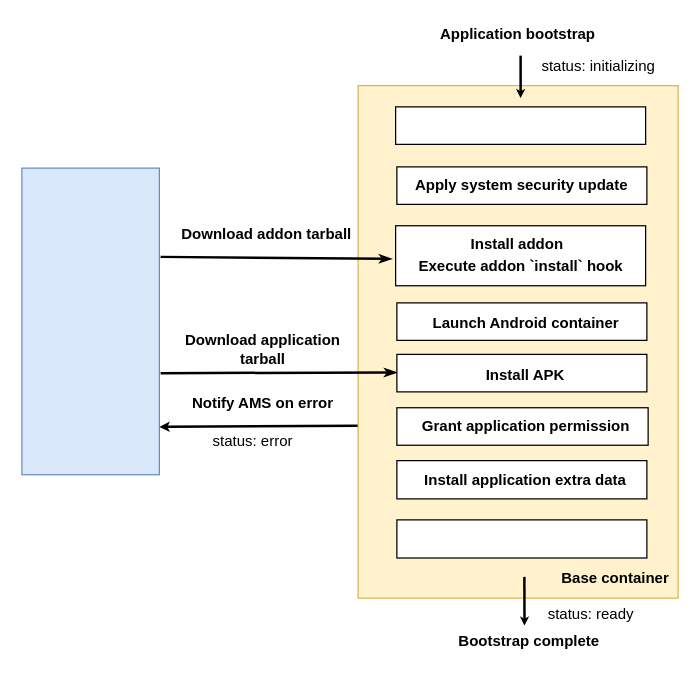
This 700x676 diagram has some shape labels left out. The shapes that lost their labels are listed below. From the top down, each one's centre as x and y in pixels, then its label:
pixel 520 125: Configure Network
pixel 90 321: AMS
pixel 521 538: Execute addon `prepare` hook
